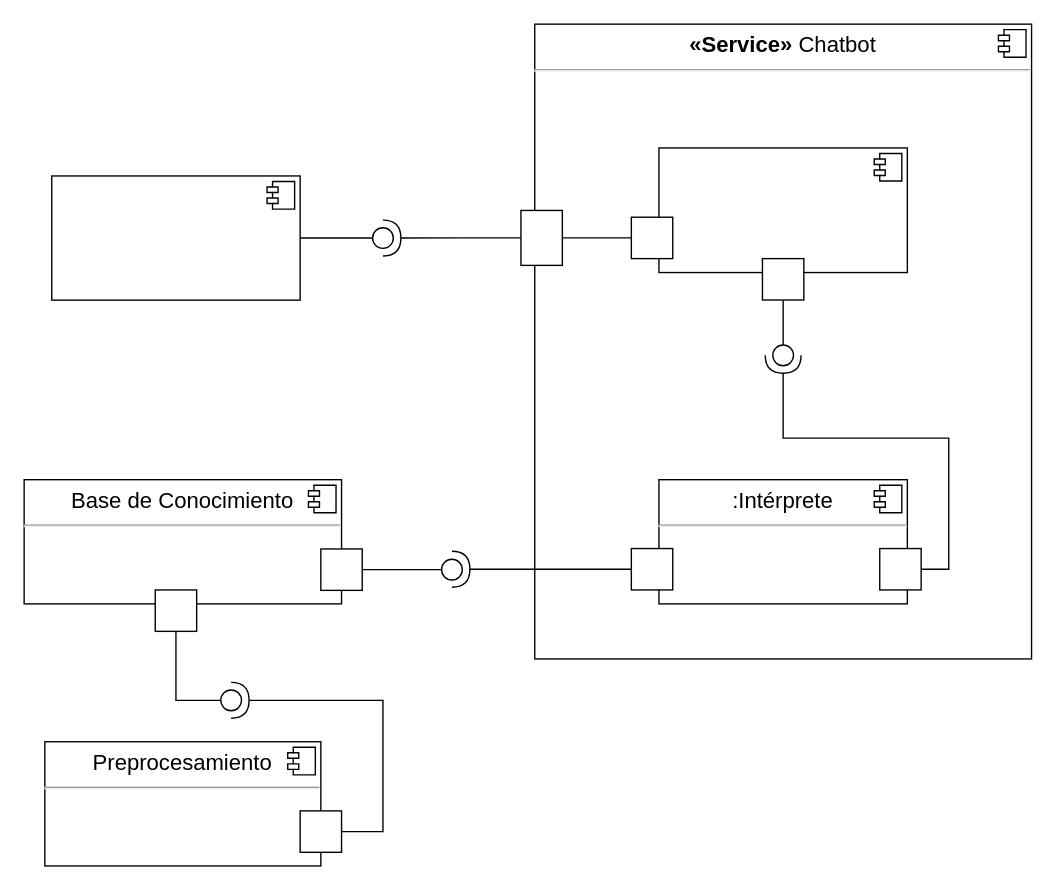
The diagram is 1056 pixels wide and 890 high, and some of its shapes have lost their labels. Each missing label, with the centre of its shape:
:ServidorHTTP: the point at 782,210
Cliente: the point at 175,237
